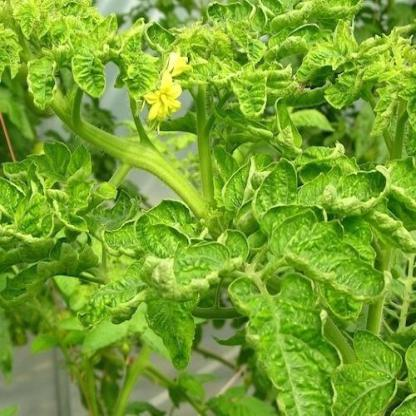Tomato leaf yellow virus: (237, 269, 335, 415), (111, 199, 251, 298), (252, 155, 394, 244), (277, 213, 392, 314), (171, 54, 294, 140), (139, 281, 211, 376), (100, 17, 162, 102), (292, 32, 369, 93), (1, 177, 58, 245), (214, 161, 267, 214), (22, 49, 62, 119), (67, 51, 112, 109)
